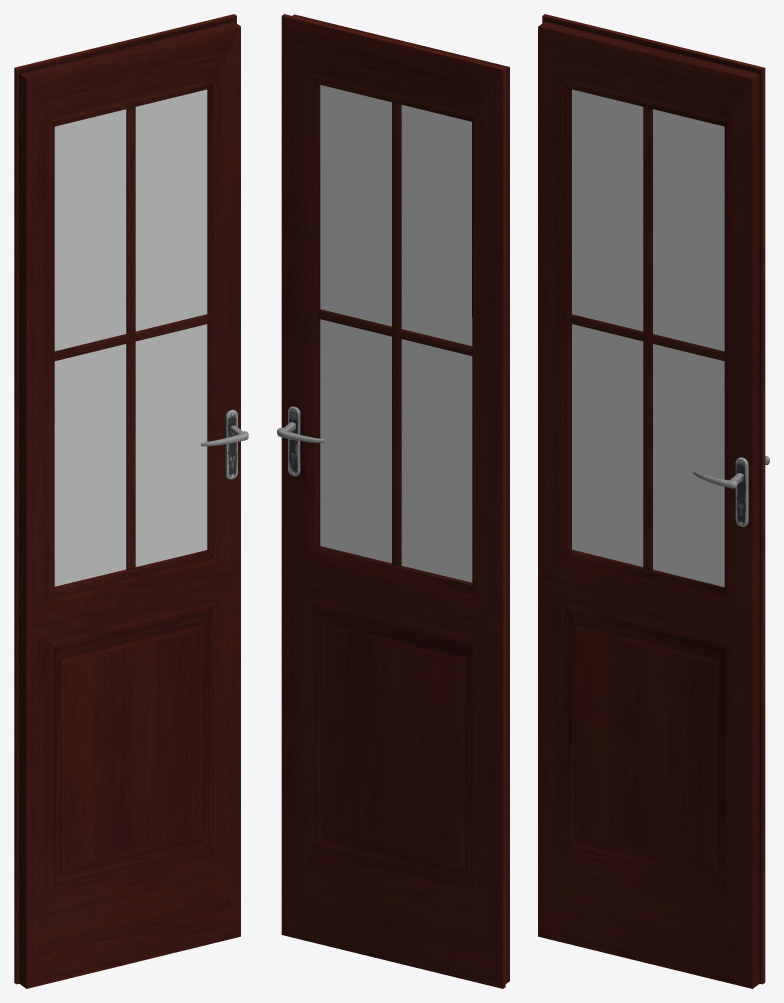
File: door002_translate.dae
3 views of the same model, side by side, from view 1: azimuth 30°, elevation 25°; view 2: azimuth 150°, elevation 25°; view 3: azimuth 330°, elevation 25° (orthographic).
Visible parts, largest first — view 1: door002_joint_part01, door002_joint_part02; view 2: door002_joint_part01, door002_joint_part02; view 3: door002_joint_part01, door002_joint_part02.
Part boxes in pixels (<box>): door002_joint_part01: <box>14,14,248,988</box>; door002_joint_part02: <box>54,89,207,586</box>; door002_joint_part01: <box>277,14,509,988</box>; door002_joint_part02: <box>320,85,472,582</box>; door002_joint_part01: <box>538,14,769,988</box>; door002_joint_part02: <box>572,89,724,586</box>.
Size of the model in its own units: 62.96 by 250 by 18.51.
